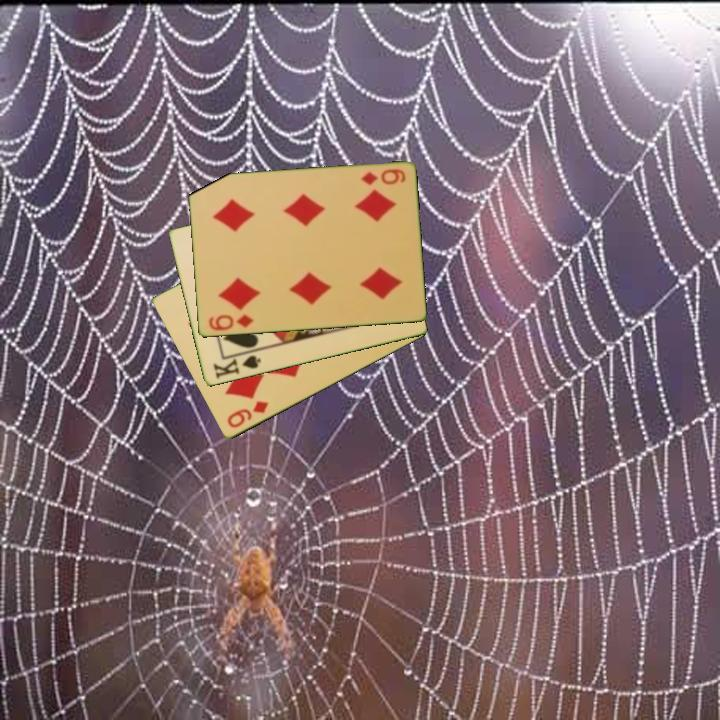6d: (205, 311, 256, 334), (357, 166, 408, 188)
9d: (224, 397, 271, 432)
Ks: (210, 348, 263, 382)
